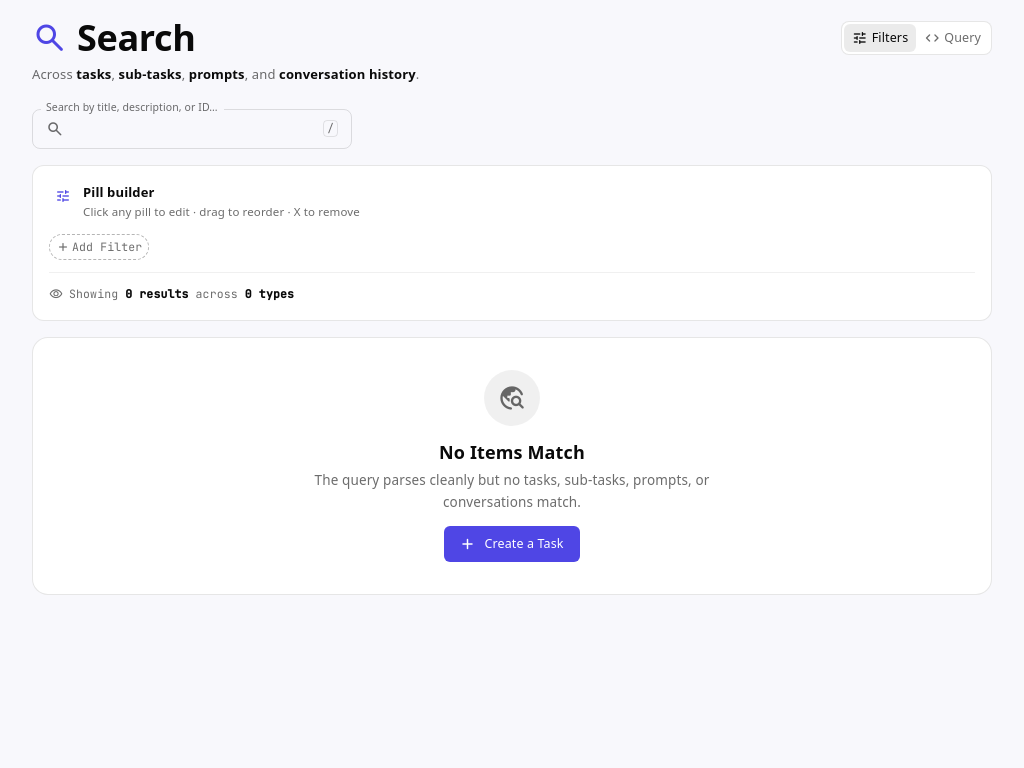
Test: Search page › switches mode to JQL via SearchModeToggle (exercises mode state + queryStr)
Check: the heading "Search" is shown, box [32,13,196,62]
Click the button "Query". click: (953, 38)
box: [924,28,981,48]
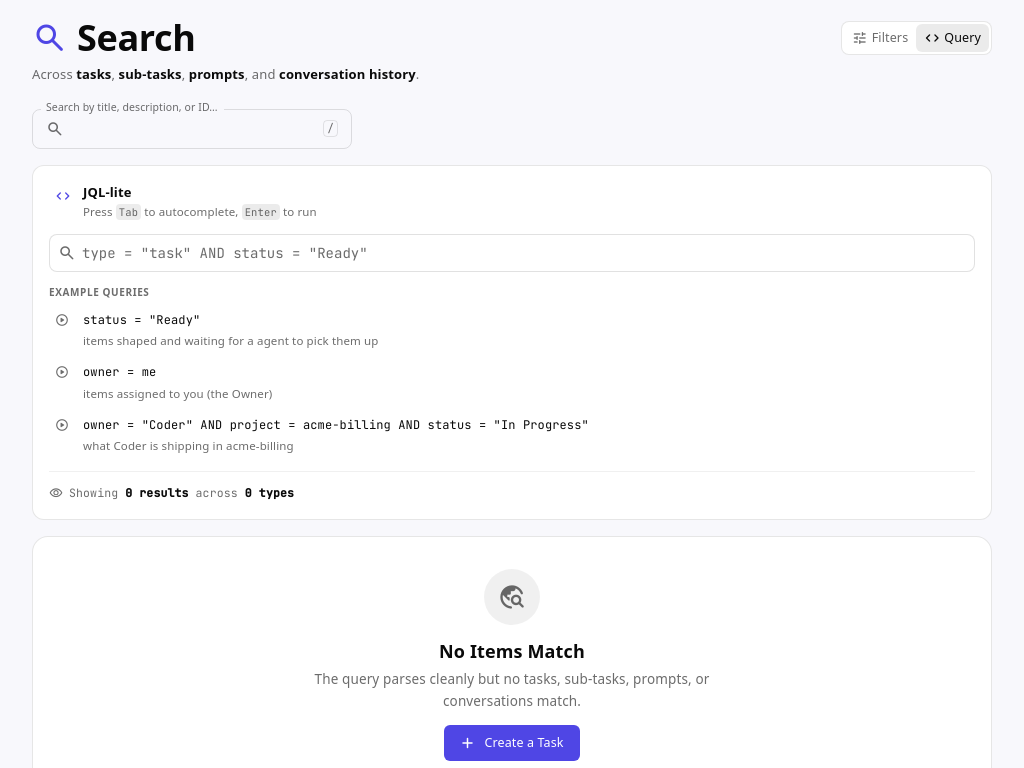
Check: the text "JQL-lite" is shown, box [83,183,132,201]
